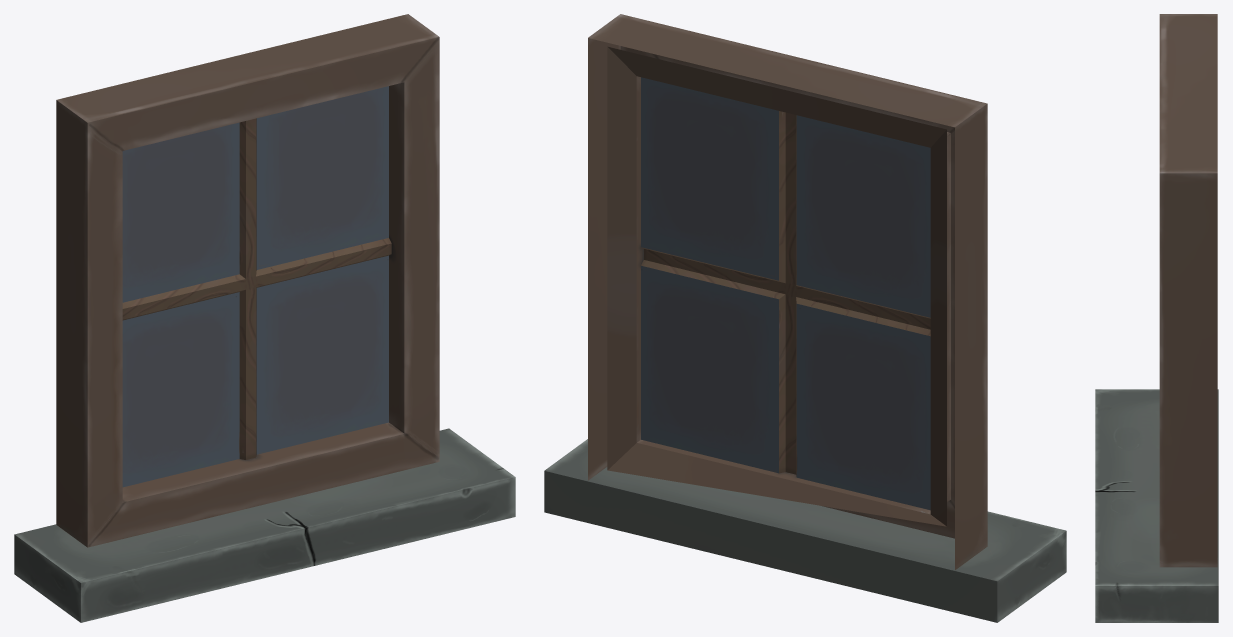
Rendered from ventanaV2.glb.
3 renders of one model, left to right at view 1: azimuth 30°, elevation 25°; view 2: azimuth 150°, elevation 25°; view 3: azimuth 270°, elevation 25°, orthographic. The views are drawn at different scales.
Parts seen in each view (by area): view 1: Cube; view 2: Cube; view 3: Cube.
Boxes of the visible parts, box(x1,y1,x2,y2) form: Cube: box(14, 14, 515, 622); Cube: box(544, 14, 1066, 622); Cube: box(1095, 14, 1218, 622).
Bounding box in the file's own units: 2.91 × 2.97 × 0.7692.
1 material, 1 textured.
